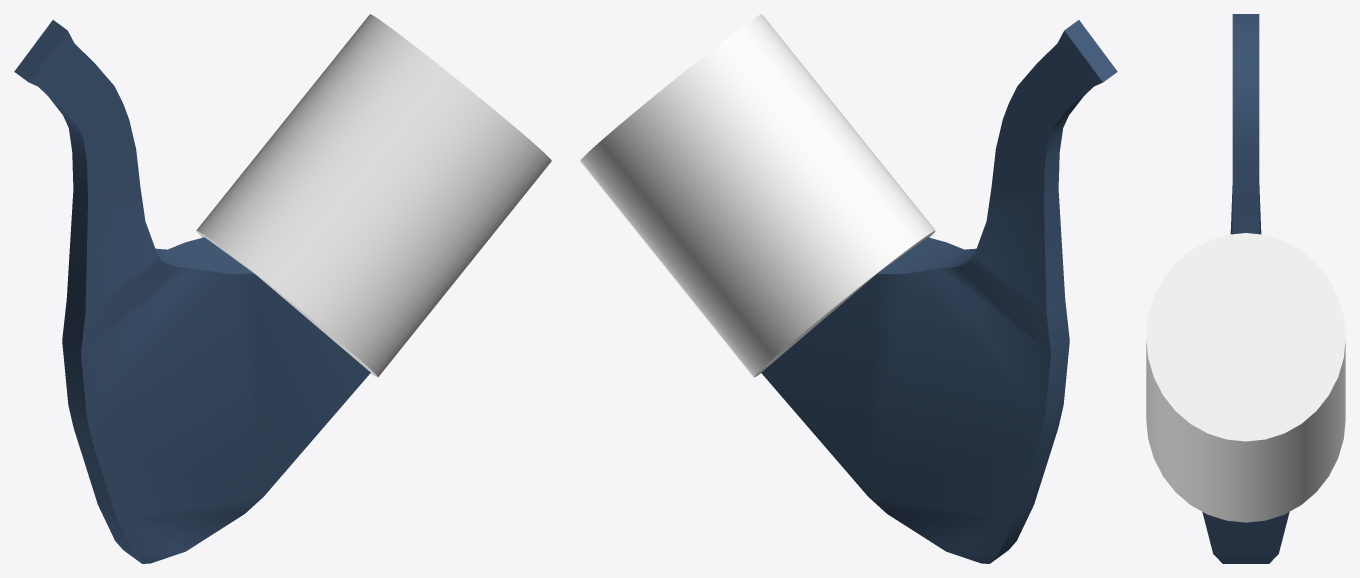
The model's file is reelMount.fbx.
3 views of the same model, side by side, from view 1: azimuth 30°, elevation 25°; view 2: azimuth 150°, elevation 25°; view 3: azimuth 270°, elevation 25° (orthographic). The views are drawn at different scales.
Parts seen in each view (by area): view 1: ReelMount; view 2: ReelMount; view 3: ReelMount.
Boxes of the visible parts, <box> form: ReelMount: <box>14,14,551,563</box>; ReelMount: <box>580,14,1117,563</box>; ReelMount: <box>1146,14,1345,563</box>.
Bounding box in the file's own units: 224 × 231 × 83.31.
